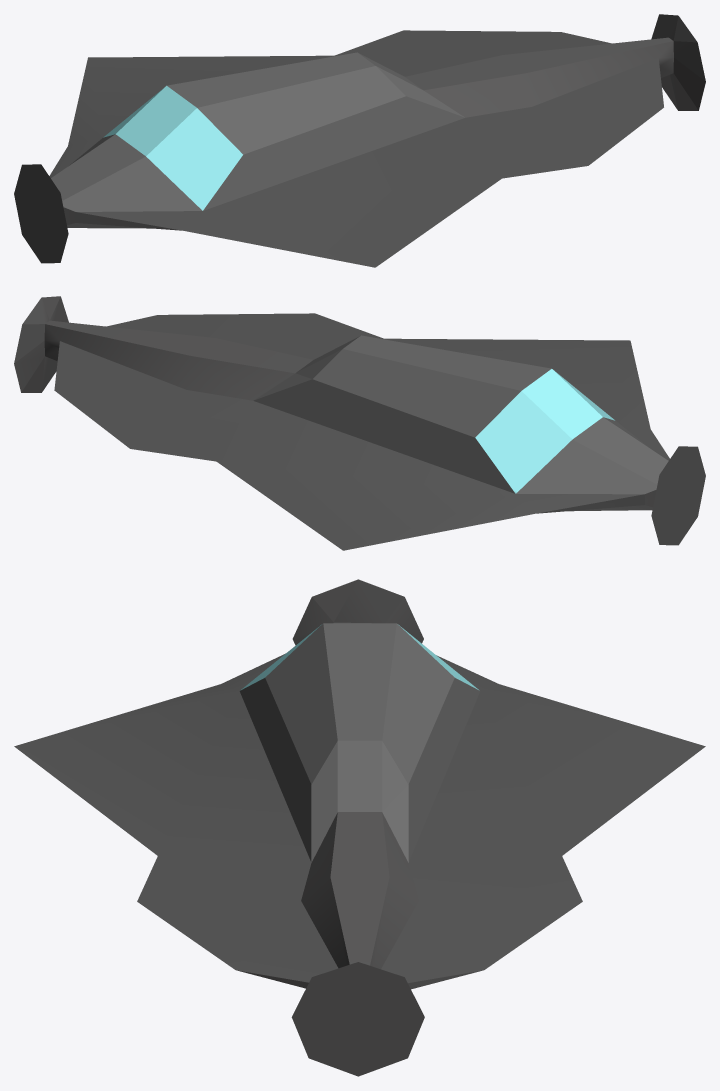
File: Corp_4.FBX
The picture shows the model from 3 angles, top to bottom: view 1: azimuth 30°, elevation 25°; view 2: azimuth 150°, elevation 25°; view 3: azimuth 270°, elevation 25°; orthographic projection. The views are drawn at different scales.
Parts seen in each view (by area): view 1: Box070; view 2: Box070; view 3: Box070.
Part boxes in pixels (left/top/right/bottom): Box070: left=14, top=14, right=705, bottom=267; Box070: left=14, top=296, right=705, bottom=550; Box070: left=14, top=579, right=705, bottom=1076.
Bounding box in the file's own units: 122 × 24.66 × 95.37.
